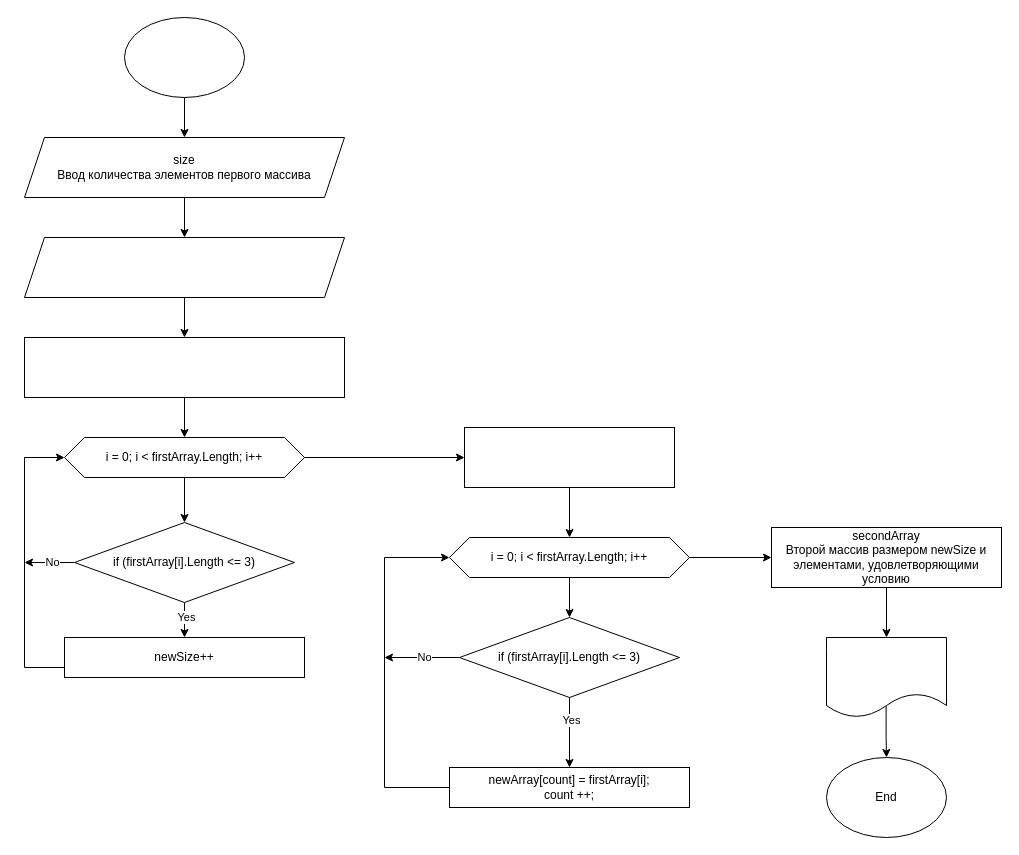
Some shapes in this 1019 by 855 pixel diagram are drawn without their labels. Each missing label, with the centre of its shape:
"firstArray Ввод элементов первого массива" belongs at (x=184, y=267).
"Start" belongs at (x=184, y=57).
"Вывод первого и второго массивов" belongs at (x=886, y=677).
"Количество элементов второго массива newSize = 0" belongs at (x=184, y=367).
"Новый массив размером newSize count = 0" belongs at (x=569, y=457).
